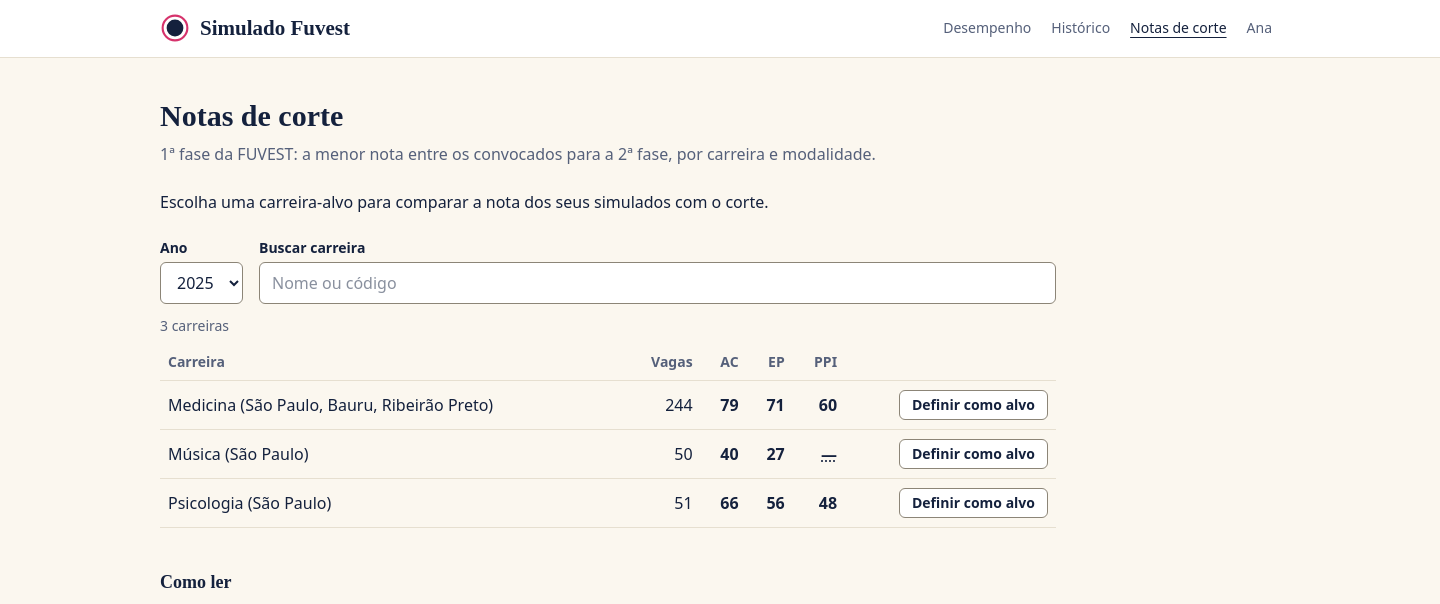
it: Carreira-alvo na página (UT-058) › erro ao salvar
This screenshot has width=1440, height=604.
Click the button "Definir como alvo" in the row of "244". click: click(973, 405)
box: x1=899 y1=390 x2=1048 y2=420
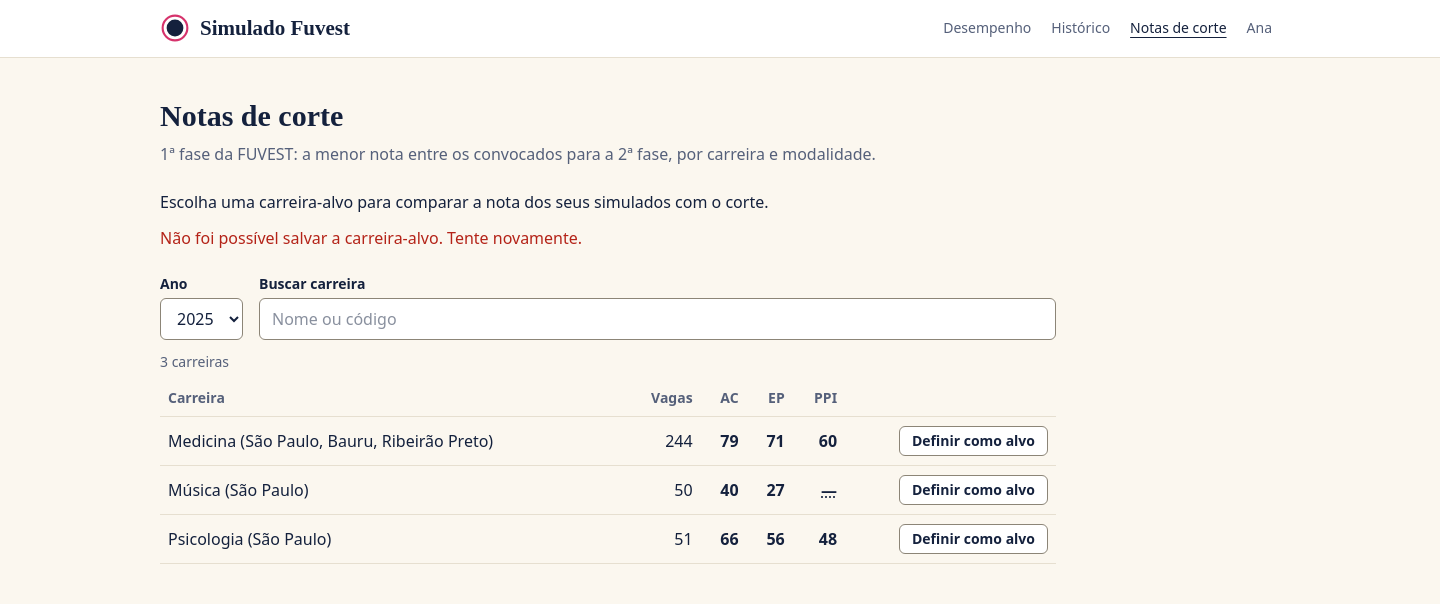
Now the message reads "Não foi possível salvar a carreira-alvo. Tente novamente.", box x1=160 y1=227 x2=582 y2=249
